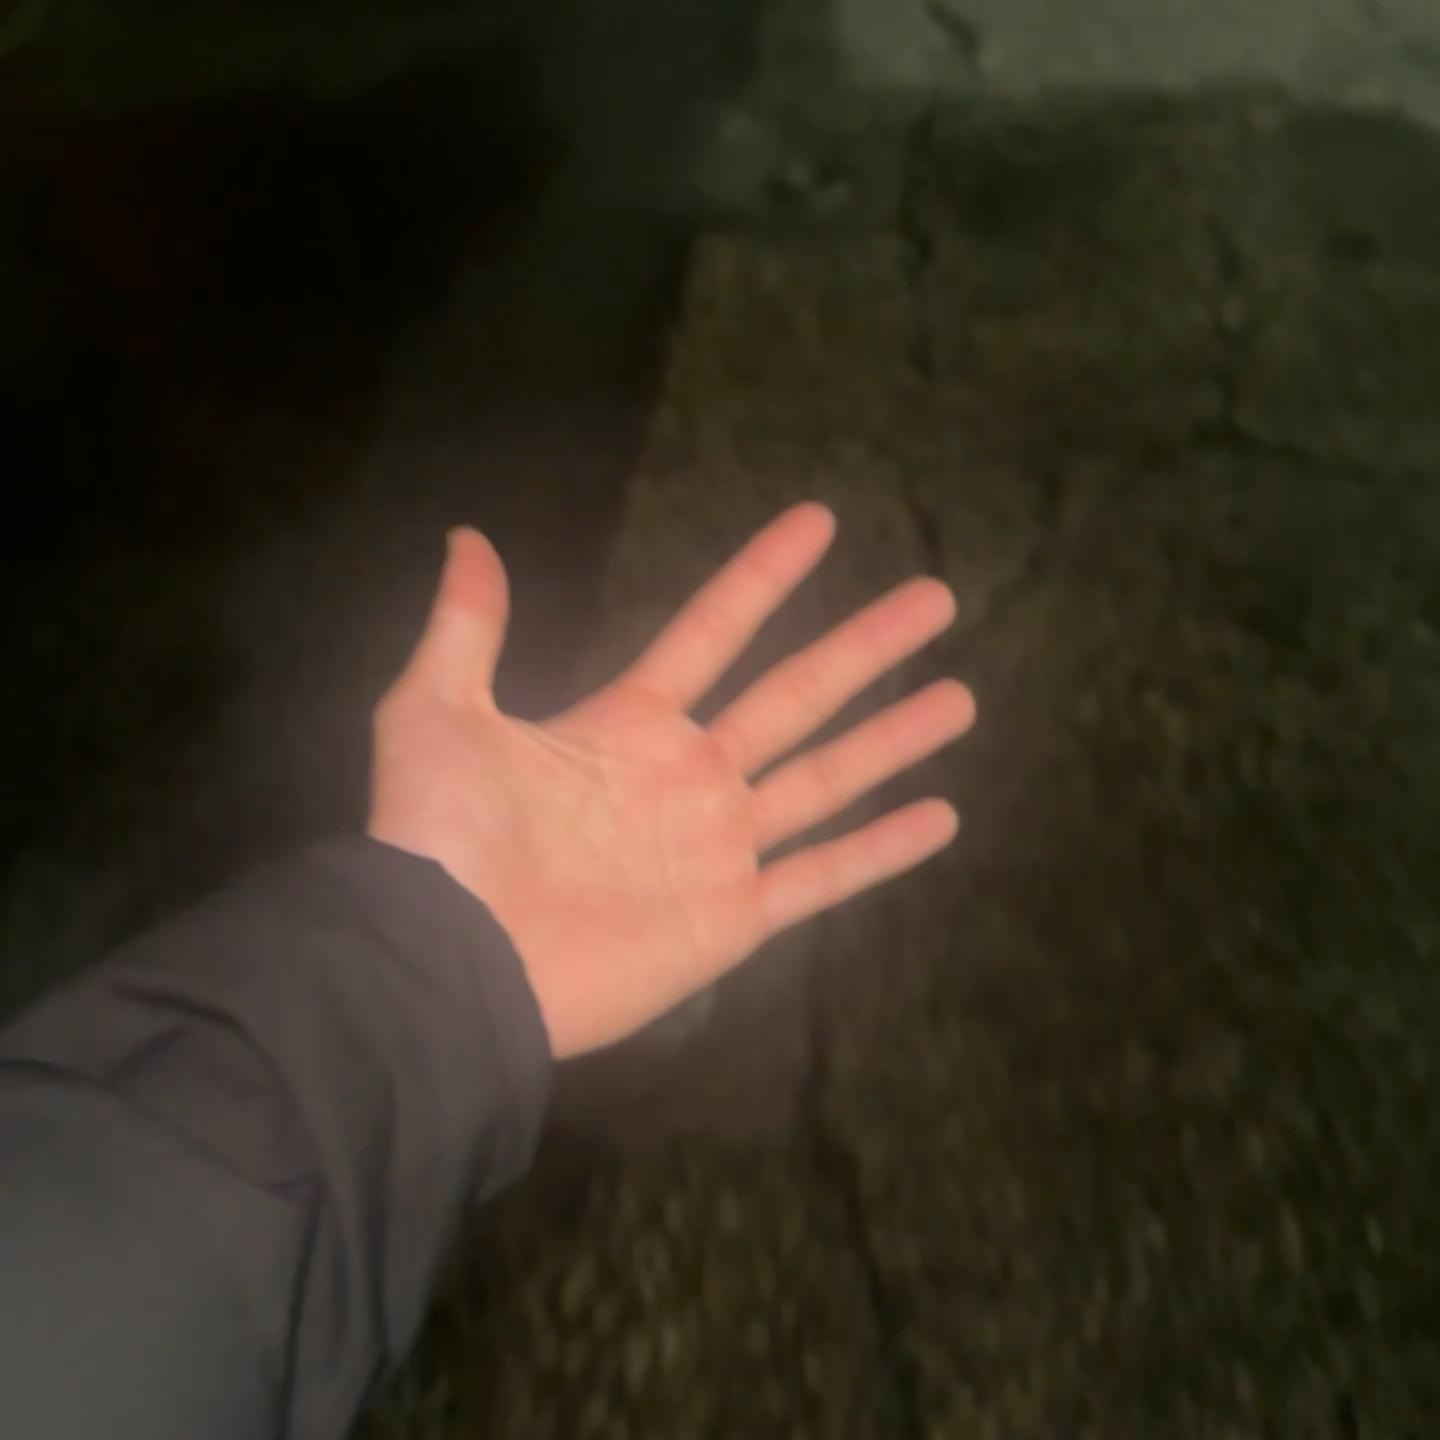without_gloves: (373, 407, 1137, 1081)
